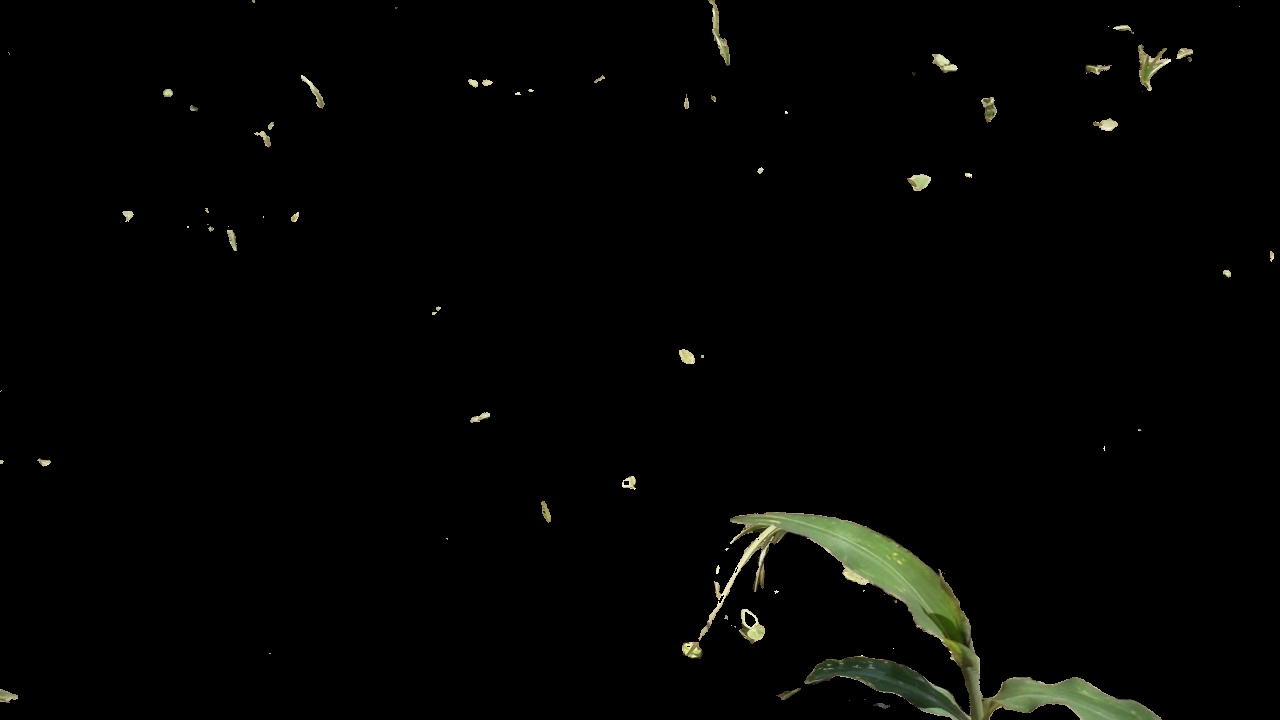crop: (701, 485, 1176, 720)
weed: (1092, 22, 1198, 111), (732, 607, 775, 652)
